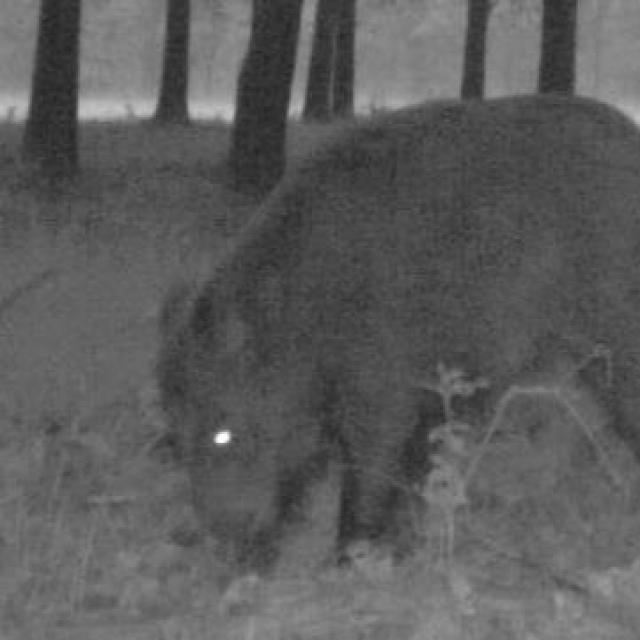pig: (105, 44, 640, 569)
